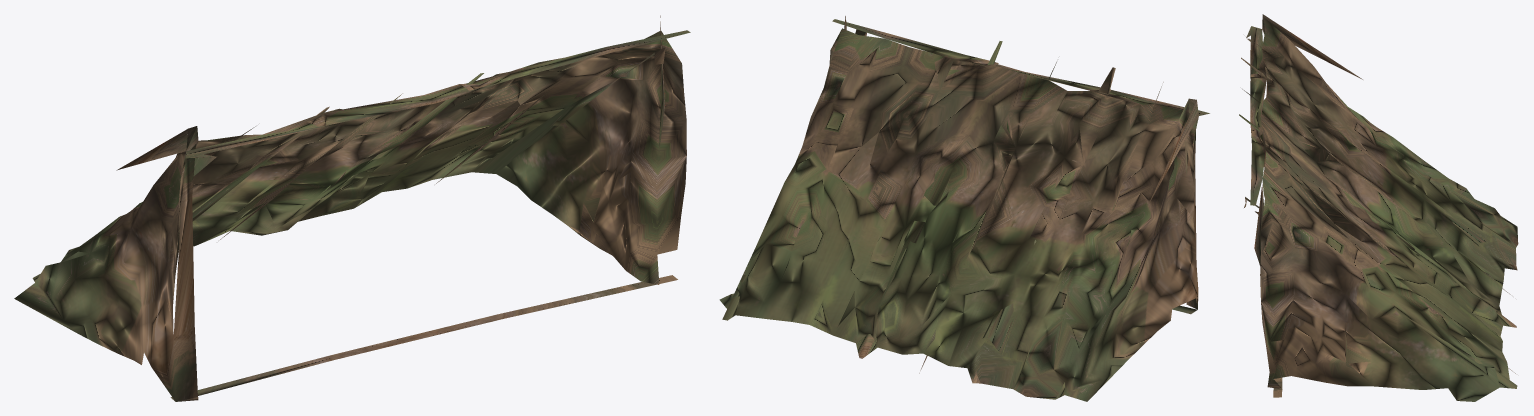
File: forest_hut.glb
3 views of the same model, side by side, from view 1: azimuth 30°, elevation 25°; view 2: azimuth 150°, elevation 25°; view 3: azimuth 270°, elevation 25° (orthographic). The views are drawn at different scales.
Visible parts, largest first — view 1: forest_hut; view 2: forest_hut; view 3: forest_hut.
Boxes of the visible parts, x1,y1,x2,y2 form: forest_hut: (14,15,690,401); forest_hut: (719,16,1209,401); forest_hut: (1239,14,1518,401).
Size of the model in its own units: 2.87 by 1.56 by 1.84.
Materials: 1 (1 with a texture image).
